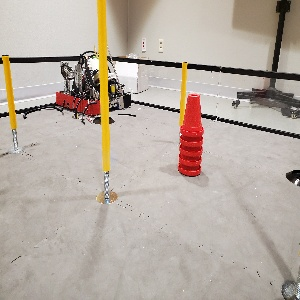Red_5: (177, 91, 204, 176)
